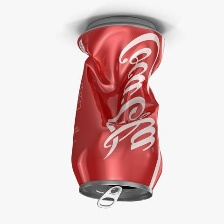can: (67, 13, 168, 209)
